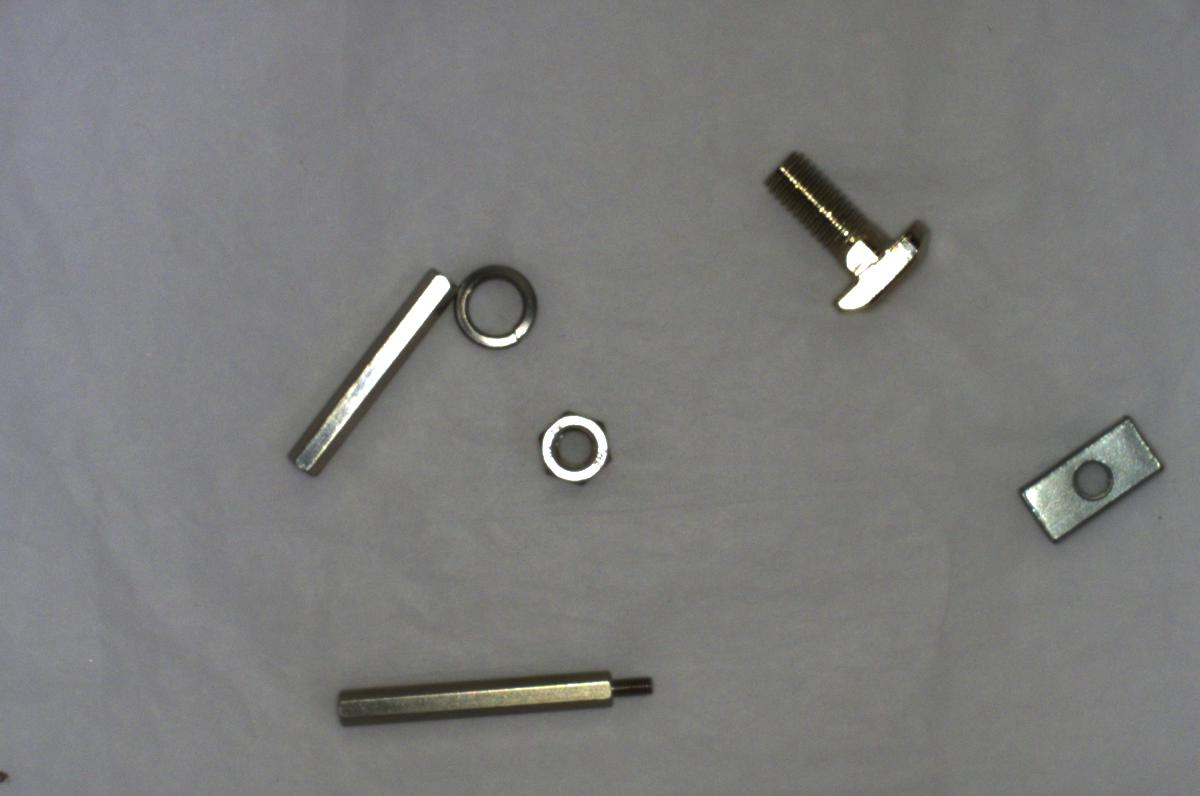Double hexagonal column: (282, 255, 457, 473)
Hexagon nut: (521, 401, 622, 492)
Hexagonal steel column: (328, 663, 668, 735)
Rectangular nut: (1005, 405, 1167, 543)
Spring washer: (442, 256, 557, 356)
T-shaped screw: (762, 150, 930, 313)
